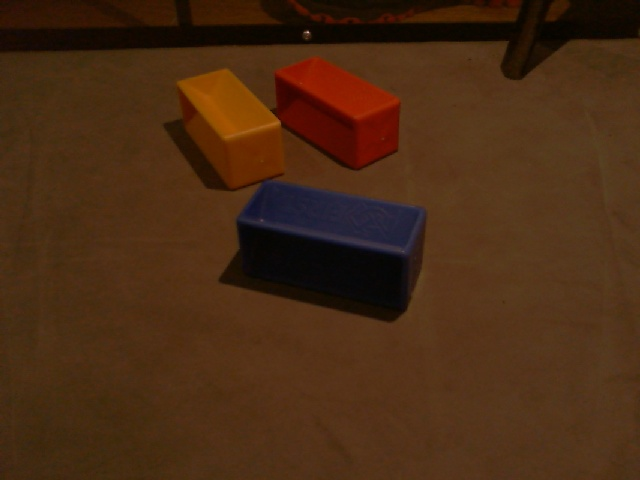BlueSample: (239, 180, 427, 317)
RedSample: (271, 54, 402, 172)
YellowSample: (174, 68, 290, 188)
